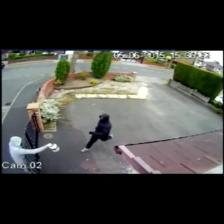person: (10, 136, 52, 165), (81, 114, 112, 152)
